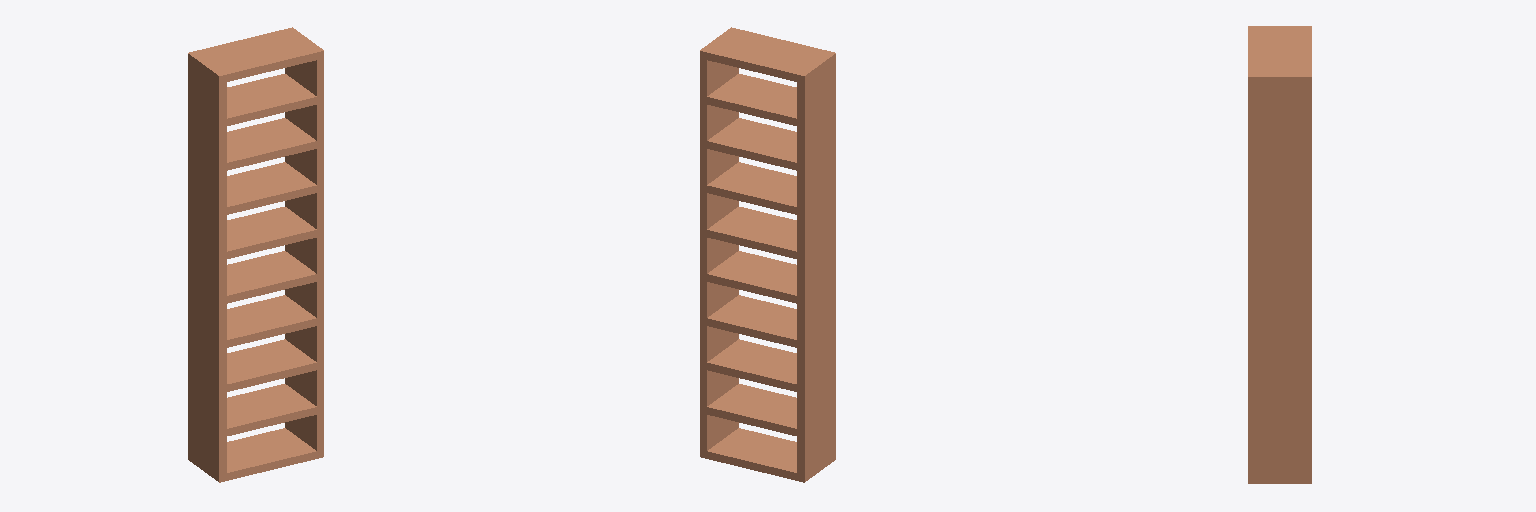
File: Bookshelve_fullsize.obj
3 views of the same model, side by side, from view 1: azimuth 30°, elevation 25°; view 2: azimuth 150°, elevation 25°; view 3: azimuth 270°, elevation 25° (orthographic).
Visible parts, largest first — view 1: Book_shelve_fullsize_object_1; view 2: Book_shelve_fullsize_object_1; view 3: Book_shelve_fullsize_object_1.
Part boxes in pixels (left/top/right/bottom): Book_shelve_fullsize_object_1: left=188, top=27, right=323, bottom=482; Book_shelve_fullsize_object_1: left=700, top=27, right=835, bottom=482; Book_shelve_fullsize_object_1: left=1248, top=26, right=1311, bottom=483.
Size of the model in its own units: 57.06 by 212 by 30.